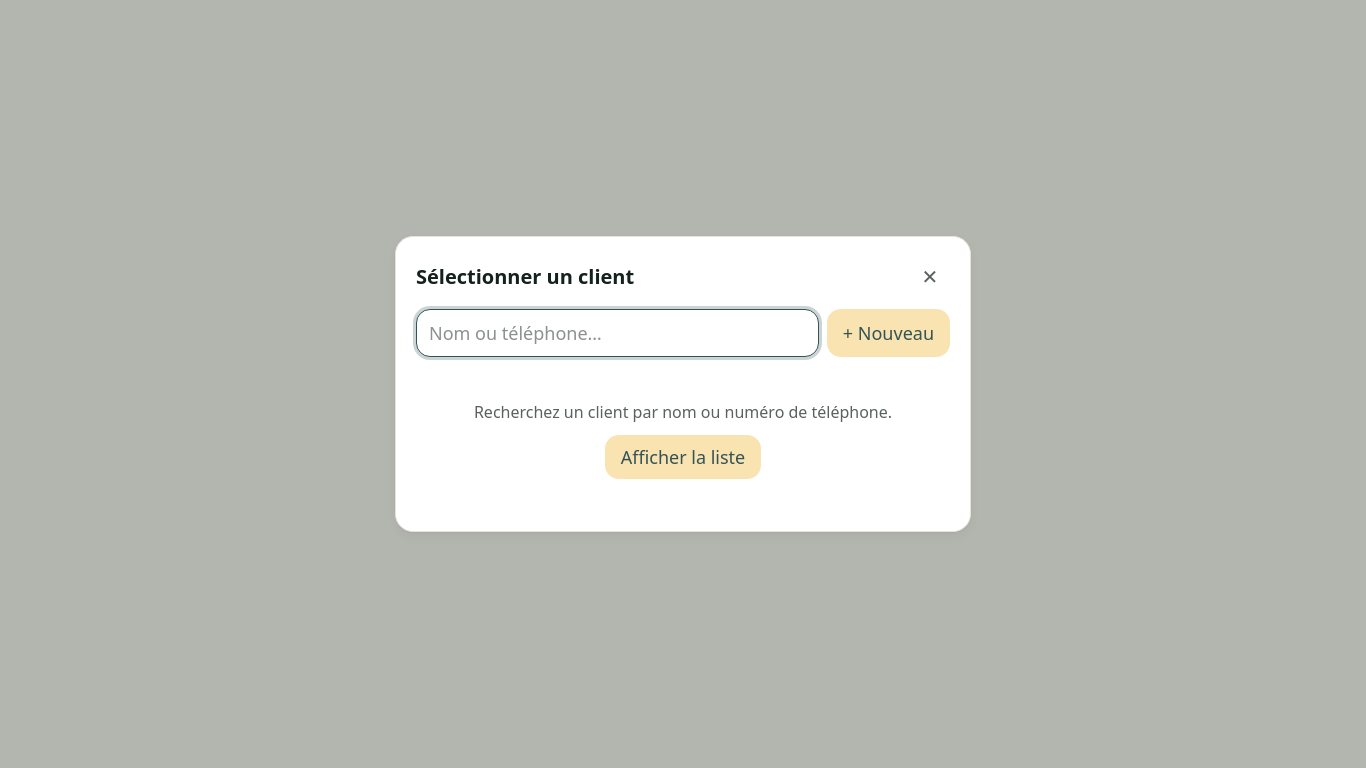
Test: Sélecteur de client en mode école › propose les fiches de démonstration dans la liste
Later steps or results of the test are not shown.
Click the button "Afficher la liste". click: (683, 457)
box: [605,435,761,479]
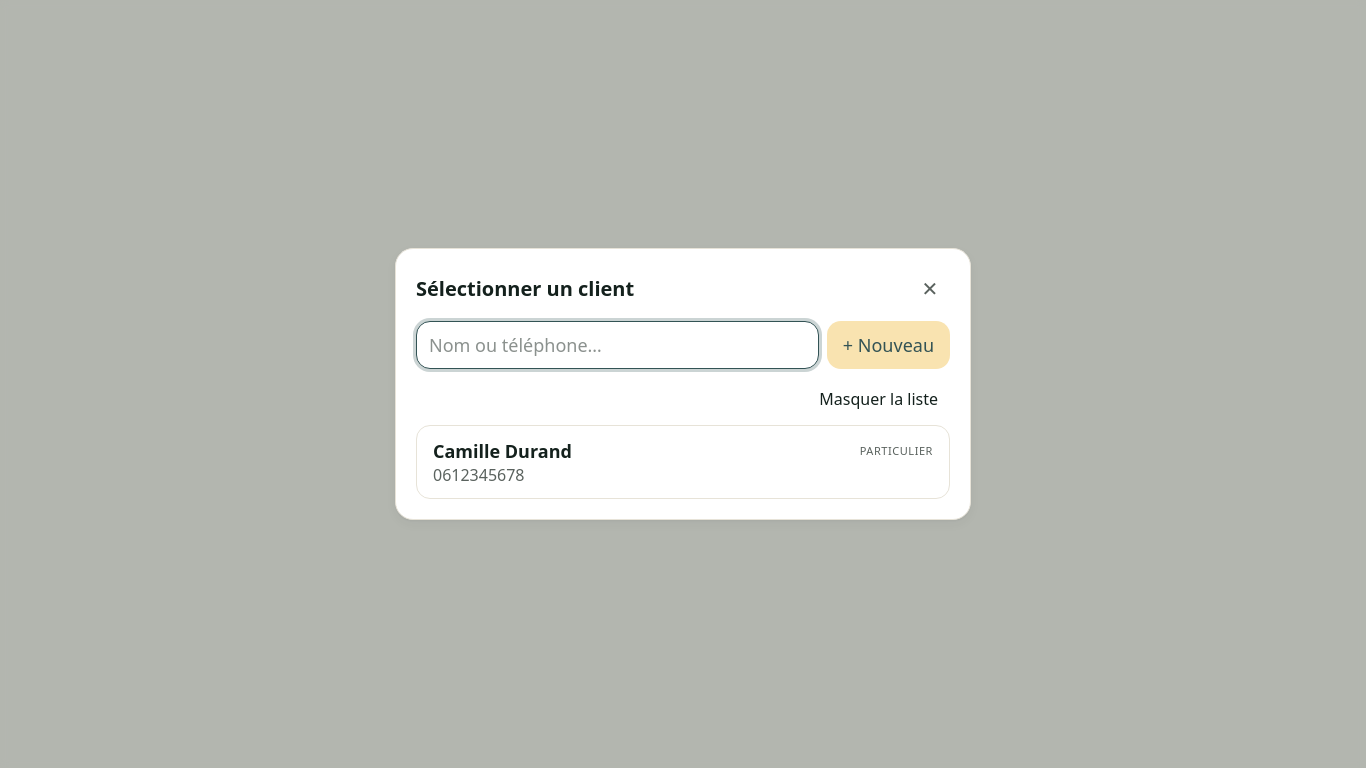
Expected: the text "Camille Durand" is shown, [433,438,572,464]
